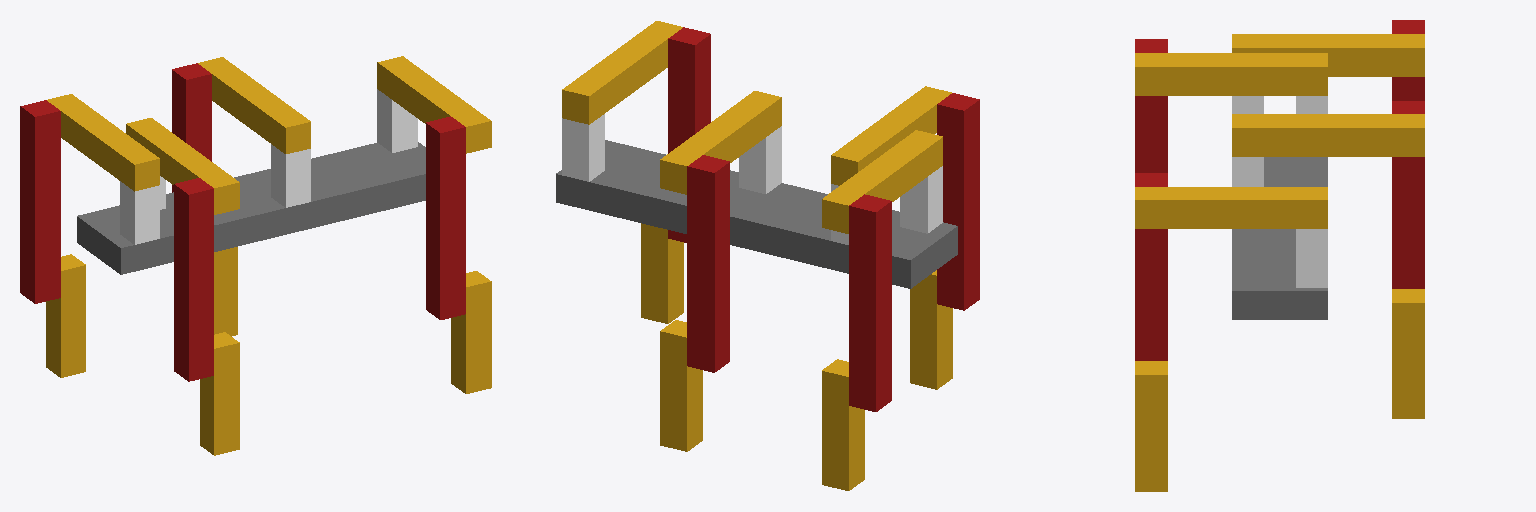
The robot description file, URDF, robot "v0":
<?xml version="1.0" encoding="utf-8"?>
<!-- =================================================================================== -->
<!-- |    This document was autogenerated by xacro from ../robots/v0variants/xacros/v0_4l_16.xacro | -->
<!-- |    EDITING THIS FILE BY HAND IS NOT RECOMMENDED                                 | -->
<!-- =================================================================================== -->
<robot name="v0">
  <material name="grey">
    <color rgba="0.5 0.5 0.5 1"/>
  </material>
  <material name="white">
    <color rgba="1 1 1 1"/>
  </material>
  <material name="yellow">
    <color rgba="0.91 0.7 0.14 1"/>
  </material>
  <material name="red">
    <color rgba="0.71 0.14 0.14 1"/>
  </material>
  <link name="body">
    <visual>
      <geometry>
        <box size="1.3 0.3 0.1"/>
      </geometry>
      <material name="grey"/>
      <origin rpy="0 0 0" xyz="0 0 0.7"/>
    </visual>
    <collision>
      <geometry>
        <box size="1.3 0.3 0.1"/>
      </geometry>
      <origin rpy="0 0 0" xyz="0 0 0.7"/>
    </collision>
    <inertial>
      <mass value="99.84"/>
      <inertia ixx="0.832" ixy="0.0" ixz="0.0" iyy="14.144" iyz="0.0" izz="14.8096"/>
    </inertial>
  </link>
  <link name="l1_segment_1">
    <visual>
      <geometry>
        <box size="0.1 0.1 0.2"/>
      </geometry>
      <material name="white"/>
      <origin rpy="0 0 0" xyz="0 0 0.1"/>
    </visual>
    <collision>
      <geometry>
        <box size="0.1 0.1 0.2"/>
      </geometry>
      <origin rpy="0 0 0" xyz="0 0 0.1"/>
    </collision>
    <inertial>
      <mass value="5.12"/>
      <inertia ixx="0.0213333333333" ixy="0.0" ixz="0.0" iyy="0.0213333333333" iyz="0.0" izz="0.00853333333333"/>
    </inertial>
  </link>
  <joint name="l1_base_to_joint_1" type="fixed">
    <parent link="body"/>
    <child link="l1_segment_1"/>
    <origin rpy="0 0 0" xyz="-0.5466346959528409 -0.1 0.75"/>
  </joint>
  <link name="l1_segment_2_HIP">
    <visual>
      <geometry>
        <box size="0.1 0.6 0.1"/>
      </geometry>
      <material name="yellow"/>
      <origin rpy="0 0 0" xyz="0 0.25 0"/>
    </visual>
    <collision>
      <geometry>
        <box size="0.1 0.6 0.1"/>
      </geometry>
      <origin rpy="0 0 0" xyz="0 0.25 0"/>
    </collision>
    <inertial>
      <mass value="15.36"/>
      <inertia ixx="0.4736" ixy="0.0" ixz="0.0" iyy="0.0256" iyz="0.0" izz="0.4736"/>
    </inertial>
  </link>
  <joint name="l1_joint_1_to_2" type="revolute">
    <parent link="l1_segment_1"/>
    <child link="l1_segment_2_HIP"/>
    <origin rpy="0 0 0" xyz="0 0 0.25"/>
    <axis xyz="0.0 0.0 1.0"/>
    <limit effort="2048" lower="-1.2" upper="1.2" velocity="20"/>
  </joint>
  <link name="l1_segment_3_THIGH">
    <visual>
      <geometry>
        <box size="0.1 0.1 0.7"/>
      </geometry>
      <material name="red"/>
      <origin rpy="0 0 0" xyz="0 0 -0.3"/>
    </visual>
    <collision>
      <geometry>
        <box size="0.1 0.1 0.7"/>
      </geometry>
      <origin rpy="0 0 0" xyz="0 0 -0.3"/>
    </collision>
    <inertial>
      <mass value="17.92"/>
      <inertia ixx="0.746666666667" ixy="0.0" ixz="0.0" iyy="0.746666666667" iyz="0.0" izz="0.0298666666667"/>
    </inertial>
  </link>
  <joint name="l1_joint_2_to_3" type="revolute">
    <parent link="l1_segment_2_HIP"/>
    <child link="l1_segment_3_THIGH"/>
    <origin rpy="0 0 0" xyz="-0.1 0.5 0"/>
    <axis xyz="1.0 0.0 0.0"/>
    <limit effort="2048" lower="-0.2" upper="0.75" velocity="20"/>
  </joint>
  <link name="l1_segment_4_FOOT">
    <visual>
      <geometry>
        <box size="0.1 0.1 0.4"/>
      </geometry>
      <material name="yellow"/>
      <origin rpy="0 0 0" xyz="0 0 -0.2"/>
    </visual>
    <collision>
      <geometry>
        <box size="0.1 0.1 0.4"/>
      </geometry>
      <origin rpy="0 0 0" xyz="0 0 -0.2"/>
    </collision>
    <inertial>
      <mass value="10.24"/>
      <inertia ixx="0.145066666667" ixy="0.0" ixz="0.0" iyy="0.145066666667" iyz="0.0" izz="0.0170666666667"/>
    </inertial>
  </link>
  <joint name="l1_joint_3_to_4_FOOT" type="revolute">
    <parent link="l1_segment_3_THIGH"/>
    <child link="l1_segment_4_FOOT"/>
    <origin rpy="0 0 0" xyz="0.1 0 -0.55"/>
    <axis xyz="1.0 0.0 0.0"/>
    <limit effort="2048" lower="-0.2" upper="0.5" velocity="20"/>
  </joint>
  <link name="r2_segment_1">
    <visual>
      <geometry>
        <box size="0.1 0.1 0.2"/>
      </geometry>
      <material name="white"/>
      <origin rpy="0 0 0" xyz="0 0 0.1"/>
    </visual>
    <collision>
      <geometry>
        <box size="0.1 0.1 0.2"/>
      </geometry>
      <origin rpy="0 0 0" xyz="0 0 0.1"/>
    </collision>
    <inertial>
      <mass value="5.12"/>
      <inertia ixx="0.0213333333333" ixy="0.0" ixz="0.0" iyy="0.0213333333333" iyz="0.0" izz="0.00853333333333"/>
    </inertial>
  </link>
  <joint name="r2_base_to_joint_1" type="fixed">
    <parent link="body"/>
    <child link="r2_segment_1"/>
    <origin rpy="0 0 0" xyz="-0.4076861848412646 0.1 0.75"/>
  </joint>
  <link name="r2_segment_2_HIP">
    <visual>
      <geometry>
        <box size="0.1 0.6 0.1"/>
      </geometry>
      <material name="yellow"/>
      <origin rpy="0 0 0" xyz="0 -0.25 0"/>
    </visual>
    <collision>
      <geometry>
        <box size="0.1 0.6 0.1"/>
      </geometry>
      <origin rpy="0 0 0" xyz="0 -0.25 0"/>
    </collision>
    <inertial>
      <mass value="15.36"/>
      <inertia ixx="0.4736" ixy="0.0" ixz="0.0" iyy="0.0256" iyz="0.0" izz="0.4736"/>
    </inertial>
  </link>
  <joint name="r2_joint_1_to_2" type="revolute">
    <parent link="r2_segment_1"/>
    <child link="r2_segment_2_HIP"/>
    <origin rpy="0 0 0" xyz="0 0 0.25"/>
    <axis xyz="0.0 0.0 1.0"/>
    <limit effort="2048" lower="-1.2" upper="1.2" velocity="20"/>
  </joint>
  <link name="r2_segment_3_THIGH">
    <visual>
      <geometry>
        <box size="0.1 0.1 0.7"/>
      </geometry>
      <material name="red"/>
      <origin rpy="0 0 0" xyz="0 0 -0.3"/>
    </visual>
    <collision>
      <geometry>
        <box size="0.1 0.1 0.7"/>
      </geometry>
      <origin rpy="0 0 0" xyz="0 0 -0.3"/>
    </collision>
    <inertial>
      <mass value="17.92"/>
      <inertia ixx="0.746666666667" ixy="0.0" ixz="0.0" iyy="0.746666666667" iyz="0.0" izz="0.0298666666667"/>
    </inertial>
  </link>
  <joint name="r2_joint_2_to_3" type="revolute">
    <parent link="r2_segment_2_HIP"/>
    <child link="r2_segment_3_THIGH"/>
    <origin rpy="0 0 0" xyz="-0.1 -0.5 0"/>
    <axis xyz="1.0 0.0 0.0"/>
    <limit effort="2048" lower="-0.75" upper="0.2" velocity="20"/>
  </joint>
  <link name="r2_segment_4_FOOT">
    <visual>
      <geometry>
        <box size="0.1 0.1 0.4"/>
      </geometry>
      <material name="yellow"/>
      <origin rpy="0 0 0" xyz="0 0 -0.2"/>
    </visual>
    <collision>
      <geometry>
        <box size="0.1 0.1 0.4"/>
      </geometry>
      <origin rpy="0 0 0" xyz="0 0 -0.2"/>
    </collision>
    <inertial>
      <mass value="10.24"/>
      <inertia ixx="0.145066666667" ixy="0.0" ixz="0.0" iyy="0.145066666667" iyz="0.0" izz="0.0170666666667"/>
    </inertial>
  </link>
  <joint name="r2_joint_3_to_4_FOOT" type="revolute">
    <parent link="r2_segment_3_THIGH"/>
    <child link="r2_segment_4_FOOT"/>
    <origin rpy="0 0 0" xyz="0.1 0 -0.55"/>
    <axis xyz="1.0 0.0 0.0"/>
    <limit effort="2048" lower="-0.5" upper="0.2" velocity="20"/>
  </joint>
  <link name="l3_segment_1">
    <visual>
      <geometry>
        <box size="0.1 0.1 0.2"/>
      </geometry>
      <material name="white"/>
      <origin rpy="0 0 0" xyz="0 0 0.1"/>
    </visual>
    <collision>
      <geometry>
        <box size="0.1 0.1 0.2"/>
      </geometry>
      <origin rpy="0 0 0" xyz="0 0 0.1"/>
    </collision>
    <inertial>
      <mass value="5.12"/>
      <inertia ixx="0.0213333333333" ixy="0.0" ixz="0.0" iyy="0.0213333333333" iyz="0.0" izz="0.00853333333333"/>
    </inertial>
  </link>
  <joint name="l3_base_to_joint_1" type="fixed">
    <parent link="body"/>
    <child link="l3_segment_1"/>
    <origin rpy="0 0 0" xyz="0.04519346538536384 -0.1 0.75"/>
  </joint>
  <link name="l3_segment_2_HIP">
    <visual>
      <geometry>
        <box size="0.1 0.6 0.1"/>
      </geometry>
      <material name="yellow"/>
      <origin rpy="0 0 0" xyz="0 0.25 0"/>
    </visual>
    <collision>
      <geometry>
        <box size="0.1 0.6 0.1"/>
      </geometry>
      <origin rpy="0 0 0" xyz="0 0.25 0"/>
    </collision>
    <inertial>
      <mass value="15.36"/>
      <inertia ixx="0.4736" ixy="0.0" ixz="0.0" iyy="0.0256" iyz="0.0" izz="0.4736"/>
    </inertial>
  </link>
  <joint name="l3_joint_1_to_2" type="revolute">
    <parent link="l3_segment_1"/>
    <child link="l3_segment_2_HIP"/>
    <origin rpy="0 0 0" xyz="0 0 0.25"/>
    <axis xyz="0.0 0.0 1.0"/>
    <limit effort="2048" lower="-1.2" upper="1.2" velocity="20"/>
  </joint>
  <link name="l3_segment_3_THIGH">
    <visual>
      <geometry>
        <box size="0.1 0.1 0.7"/>
      </geometry>
      <material name="red"/>
      <origin rpy="0 0 0" xyz="0 0 -0.3"/>
    </visual>
    <collision>
      <geometry>
        <box size="0.1 0.1 0.7"/>
      </geometry>
      <origin rpy="0 0 0" xyz="0 0 -0.3"/>
    </collision>
    <inertial>
      <mass value="17.92"/>
      <inertia ixx="0.746666666667" ixy="0.0" ixz="0.0" iyy="0.746666666667" iyz="0.0" izz="0.0298666666667"/>
    </inertial>
  </link>
  <joint name="l3_joint_2_to_3" type="revolute">
    <parent link="l3_segment_2_HIP"/>
    <child link="l3_segment_3_THIGH"/>
    <origin rpy="0 0 0" xyz="-0.1 0.5 0"/>
    <axis xyz="1.0 0.0 0.0"/>
    <limit effort="2048" lower="-0.2" upper="0.75" velocity="20"/>
  </joint>
  <link name="l3_segment_4_FOOT">
    <visual>
      <geometry>
        <box size="0.1 0.1 0.4"/>
      </geometry>
      <material name="yellow"/>
      <origin rpy="0 0 0" xyz="0 0 -0.2"/>
    </visual>
    <collision>
      <geometry>
        <box size="0.1 0.1 0.4"/>
      </geometry>
      <origin rpy="0 0 0" xyz="0 0 -0.2"/>
    </collision>
    <inertial>
      <mass value="10.24"/>
      <inertia ixx="0.145066666667" ixy="0.0" ixz="0.0" iyy="0.145066666667" iyz="0.0" izz="0.0170666666667"/>
    </inertial>
  </link>
  <joint name="l3_joint_3_to_4_FOOT" type="revolute">
    <parent link="l3_segment_3_THIGH"/>
    <child link="l3_segment_4_FOOT"/>
    <origin rpy="0 0 0" xyz="0.1 0 -0.55"/>
    <axis xyz="1.0 0.0 0.0"/>
    <limit effort="2048" lower="-0.2" upper="0.5" velocity="20"/>
  </joint>
  <link name="r4_segment_1">
    <visual>
      <geometry>
        <box size="0.1 0.1 0.2"/>
      </geometry>
      <material name="white"/>
      <origin rpy="0 0 0" xyz="0 0 0.1"/>
    </visual>
    <collision>
      <geometry>
        <box size="0.1 0.1 0.2"/>
      </geometry>
      <origin rpy="0 0 0" xyz="0 0 0.1"/>
    </collision>
    <inertial>
      <mass value="5.12"/>
      <inertia ixx="0.0213333333333" ixy="0.0" ixz="0.0" iyy="0.0213333333333" iyz="0.0" izz="0.00853333333333"/>
    </inertial>
  </link>
  <joint name="r4_base_to_joint_1" type="fixed">
    <parent link="body"/>
    <child link="r4_segment_1"/>
    <origin rpy="0 0 0" xyz="0.5773435756161528 0.1 0.75"/>
  </joint>
  <link name="r4_segment_2_HIP">
    <visual>
      <geometry>
        <box size="0.1 0.6 0.1"/>
      </geometry>
      <material name="yellow"/>
      <origin rpy="0 0 0" xyz="0 -0.25 0"/>
    </visual>
    <collision>
      <geometry>
        <box size="0.1 0.6 0.1"/>
      </geometry>
      <origin rpy="0 0 0" xyz="0 -0.25 0"/>
    </collision>
    <inertial>
      <mass value="15.36"/>
      <inertia ixx="0.4736" ixy="0.0" ixz="0.0" iyy="0.0256" iyz="0.0" izz="0.4736"/>
    </inertial>
  </link>
  <joint name="r4_joint_1_to_2" type="revolute">
    <parent link="r4_segment_1"/>
    <child link="r4_segment_2_HIP"/>
    <origin rpy="0 0 0" xyz="0 0 0.25"/>
    <axis xyz="0.0 0.0 1.0"/>
    <limit effort="2048" lower="-1.2" upper="1.2" velocity="20"/>
  </joint>
  <link name="r4_segment_3_THIGH">
    <visual>
      <geometry>
        <box size="0.1 0.1 0.7"/>
      </geometry>
      <material name="red"/>
      <origin rpy="0 0 0" xyz="0 0 -0.3"/>
    </visual>
    <collision>
      <geometry>
        <box size="0.1 0.1 0.7"/>
      </geometry>
      <origin rpy="0 0 0" xyz="0 0 -0.3"/>
    </collision>
    <inertial>
      <mass value="17.92"/>
      <inertia ixx="0.746666666667" ixy="0.0" ixz="0.0" iyy="0.746666666667" iyz="0.0" izz="0.0298666666667"/>
    </inertial>
  </link>
  <joint name="r4_joint_2_to_3" type="revolute">
    <parent link="r4_segment_2_HIP"/>
    <child link="r4_segment_3_THIGH"/>
    <origin rpy="0 0 0" xyz="-0.1 -0.5 0"/>
    <axis xyz="1.0 0.0 0.0"/>
    <limit effort="2048" lower="-0.75" upper="0.2" velocity="20"/>
  </joint>
  <link name="r4_segment_4_FOOT">
    <visual>
      <geometry>
        <box size="0.1 0.1 0.4"/>
      </geometry>
      <material name="yellow"/>
      <origin rpy="0 0 0" xyz="0 0 -0.2"/>
    </visual>
    <collision>
      <geometry>
        <box size="0.1 0.1 0.4"/>
      </geometry>
      <origin rpy="0 0 0" xyz="0 0 -0.2"/>
    </collision>
    <inertial>
      <mass value="10.24"/>
      <inertia ixx="0.145066666667" ixy="0.0" ixz="0.0" iyy="0.145066666667" iyz="0.0" izz="0.0170666666667"/>
    </inertial>
  </link>
  <joint name="r4_joint_3_to_4_FOOT" type="revolute">
    <parent link="r4_segment_3_THIGH"/>
    <child link="r4_segment_4_FOOT"/>
    <origin rpy="0 0 0" xyz="0.1 0 -0.55"/>
    <axis xyz="1.0 0.0 0.0"/>
    <limit effort="2048" lower="-0.5" upper="0.2" velocity="20"/>
  </joint>
</robot>

--- Render facts (derived) ---
The picture shows the robot from 3 angles, left to right: view 1: azimuth 30°, elevation 25°; view 2: azimuth 150°, elevation 25°; view 3: azimuth 270°, elevation 25°; orthographic projection.
Model v0 with 17 links and 16 joints (12 revolute, 4 fixed), rooted at body, posed every joint at zero.
Visible links, largest first — view 1: body, l1_segment_3_THIGH, r2_segment_3_THIGH, r4_segment_3_THIGH, l1_segment_2_HIP, l3_segment_2_HIP, r4_segment_2_HIP, r4_segment_4_FOOT, r2_segment_4_FOOT, l1_segment_4_FOOT, r2_segment_2_HIP, l3_segment_3_THIGH (+4 smaller); view 2: body, l3_segment_3_THIGH, l1_segment_3_THIGH, r2_segment_3_THIGH, r4_segment_2_HIP, l3_segment_2_HIP, l1_segment_2_HIP, r4_segment_3_THIGH, l3_segment_4_FOOT, l1_segment_4_FOOT, r2_segment_2_HIP, r2_segment_4_FOOT (+4 smaller); view 3: body, r2_segment_2_HIP, l3_segment_2_HIP, r4_segment_2_HIP, l1_segment_2_HIP, r4_segment_3_THIGH, l3_segment_3_THIGH, r4_segment_4_FOOT, l3_segment_4_FOOT, r2_segment_3_THIGH, r4_segment_1, l1_segment_3_THIGH (+3 smaller).
Link boxes in pixels (x1=…): body: x1=77, y1=142, x2=425, y2=274; l1_segment_3_THIGH: x1=20, y1=100, x2=60, y2=303; r2_segment_3_THIGH: x1=174, y1=178, x2=213, y2=381; r4_segment_3_THIGH: x1=426, y1=116, x2=465, y2=319; l1_segment_2_HIP: x1=47, y1=94, x2=159, y2=191; l3_segment_2_HIP: x1=198, y1=57, x2=310, y2=153; r4_segment_2_HIP: x1=377, y1=56, x2=491, y2=153; r4_segment_4_FOOT: x1=451, y1=271, x2=491, y2=393; r2_segment_4_FOOT: x1=200, y1=332, x2=239, y2=455; l1_segment_4_FOOT: x1=46, y1=254, x2=85, y2=377; r2_segment_2_HIP: x1=126, y1=118, x2=239, y2=214; l3_segment_3_THIGH: x1=172, y1=63, x2=211, y2=192; body: x1=556, y1=140, x2=957, y2=288; l3_segment_3_THIGH: x1=687, y1=155, x2=729, y2=372; l1_segment_3_THIGH: x1=849, y1=194, x2=891, y2=411; r2_segment_3_THIGH: x1=937, y1=93, x2=979, y2=310; r4_segment_2_HIP: x1=562, y1=21, x2=682, y2=124; l3_segment_2_HIP: x1=660, y1=91, x2=781, y2=194; l1_segment_2_HIP: x1=822, y1=130, x2=942, y2=233; r4_segment_3_THIGH: x1=668, y1=27, x2=710, y2=242; l3_segment_4_FOOT: x1=660, y1=320, x2=702, y2=451; l1_segment_4_FOOT: x1=822, y1=359, x2=864, y2=490; r2_segment_2_HIP: x1=831, y1=86, x2=951, y2=185; r2_segment_4_FOOT: x1=910, y1=270, x2=952, y2=389; body: x1=1232, y1=157, x2=1327, y2=319; r2_segment_2_HIP: x1=1135, y1=53, x2=1327, y2=95; l3_segment_2_HIP: x1=1232, y1=114, x2=1424, y2=156; r4_segment_2_HIP: x1=1135, y1=187, x2=1327, y2=228; l1_segment_2_HIP: x1=1232, y1=34, x2=1424, y2=76; r4_segment_3_THIGH: x1=1135, y1=173, x2=1167, y2=360; l3_segment_3_THIGH: x1=1392, y1=101, x2=1424, y2=288; r4_segment_4_FOOT: x1=1135, y1=361, x2=1167, y2=491; l3_segment_4_FOOT: x1=1392, y1=289, x2=1424, y2=418; r2_segment_3_THIGH: x1=1135, y1=39, x2=1167, y2=172; r4_segment_1: x1=1296, y1=229, x2=1327, y2=287; l1_segment_3_THIGH: x1=1392, y1=20, x2=1424, y2=100.
Size in the robot's own frame: 1.35 by 0.9 by 1 metres.
Geometry: primitives only (box / cylinder / sphere), no mesh files.